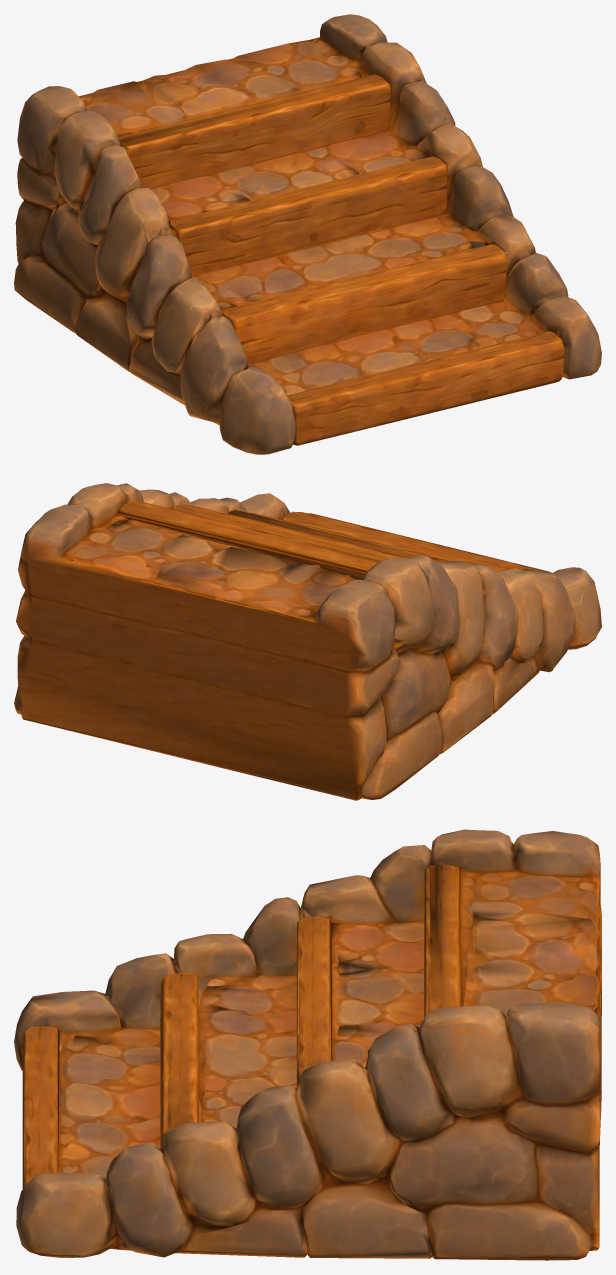
Rendered from stone_wood_steps.glb.
3 renders of one model, top to bottom at view 1: azimuth 30°, elevation 25°; view 2: azimuth 150°, elevation 25°; view 3: azimuth 270°, elevation 25°, orthographic. The views are drawn at different scales.
Visible parts, largest first — view 1: stone_wood_steps; view 2: stone_wood_steps; view 3: stone_wood_steps.
Part boxes in pixels (x1,y1,x2,y2): stone_wood_steps: (14,14,601,454); stone_wood_steps: (14,483,601,800); stone_wood_steps: (14,829,601,1260).
Bounding box in the file's own units: 1.2 × 0.6 × 1.37.
Materials: 1 (1 with a texture image).
